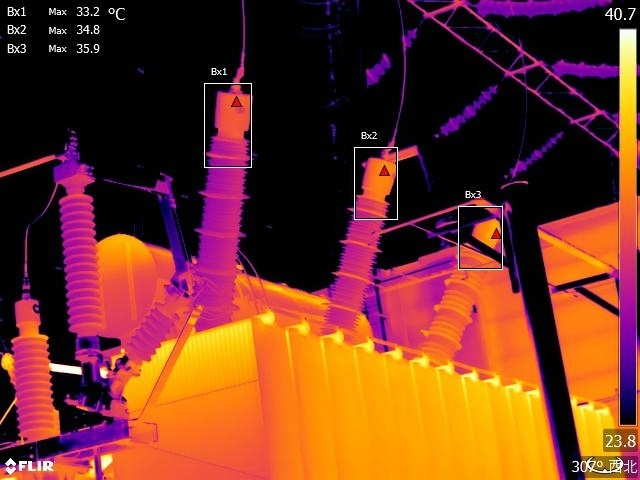insulator: (431, 80, 509, 143), (364, 19, 416, 89), (503, 129, 570, 180), (472, 1, 616, 24), (552, 58, 621, 81)
oil conservator: (77, 221, 372, 362)
post insulator: (63, 189, 111, 346), (126, 299, 183, 368)
transformer: (108, 318, 640, 480)
tube: (180, 70, 253, 331), (419, 213, 510, 359), (329, 146, 401, 320), (10, 289, 60, 447)
